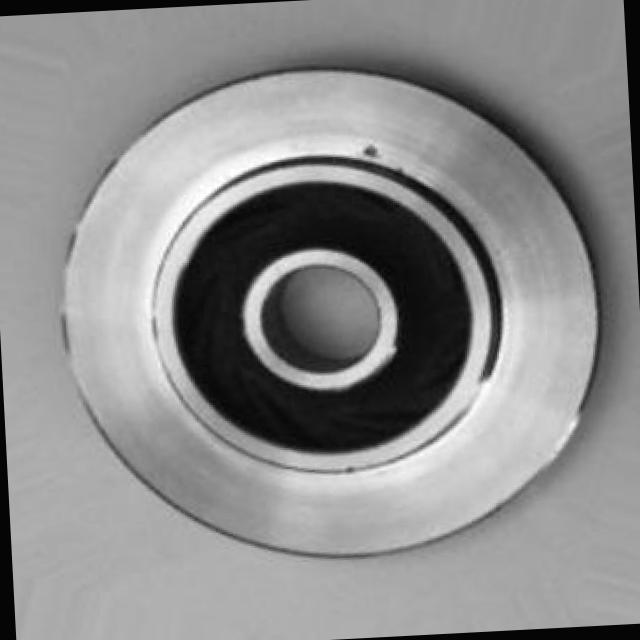Defect: (354, 136, 397, 176)
